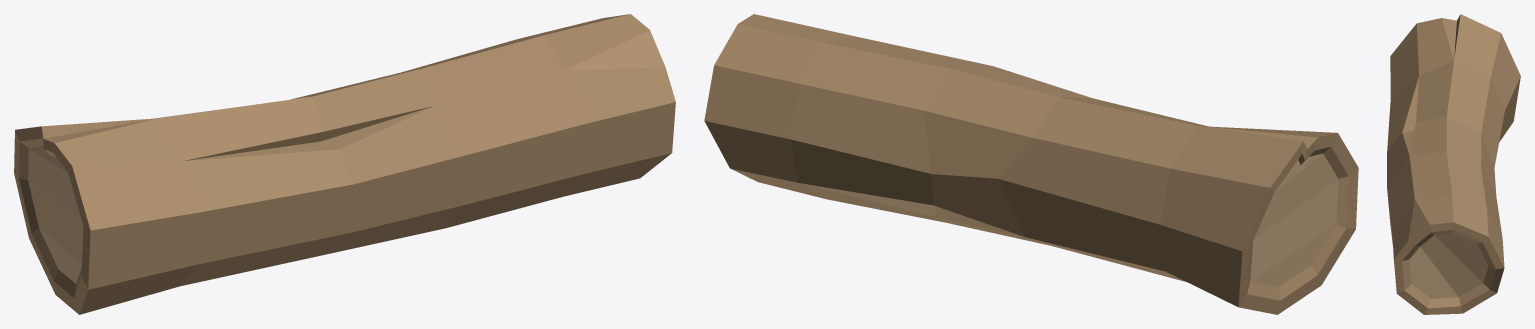
Rendered from woodlog.glb.
3 views of the same model, side by side, from view 1: azimuth 30°, elevation 25°; view 2: azimuth 150°, elevation 25°; view 3: azimuth 270°, elevation 25° (orthographic). The views are drawn at different scales.
Parts seen in each view (by area): view 1: WoodLog; view 2: WoodLog; view 3: WoodLog.
Boxes of the visible parts, box(x1,y1,x2,y2) form: WoodLog: box(14, 14, 675, 314); WoodLog: box(704, 14, 1358, 314); WoodLog: box(1387, 14, 1520, 314).
Bounding box in the file's own units: 3.77 × 1.09 × 1.11.
